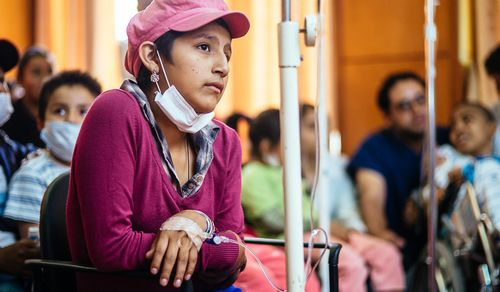other: (64, 4, 260, 287)
